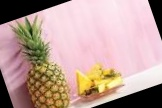Pineapple: (8, 16, 71, 108)
